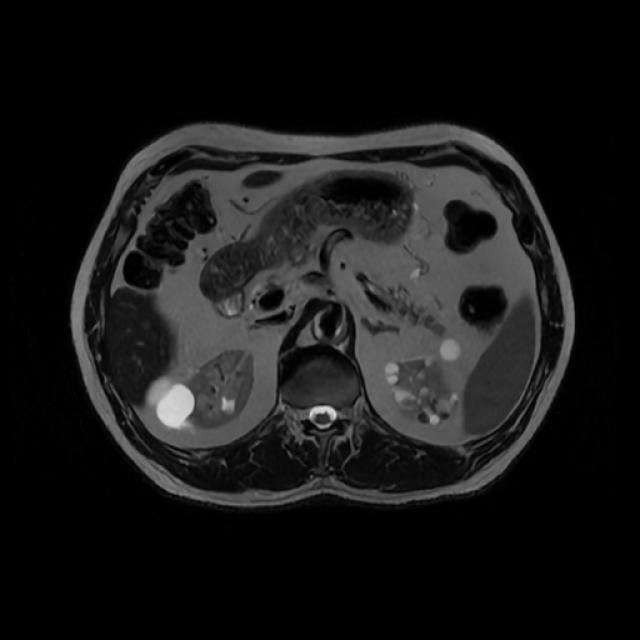sag: (145, 352, 254, 427)
sol: (385, 338, 461, 425)
